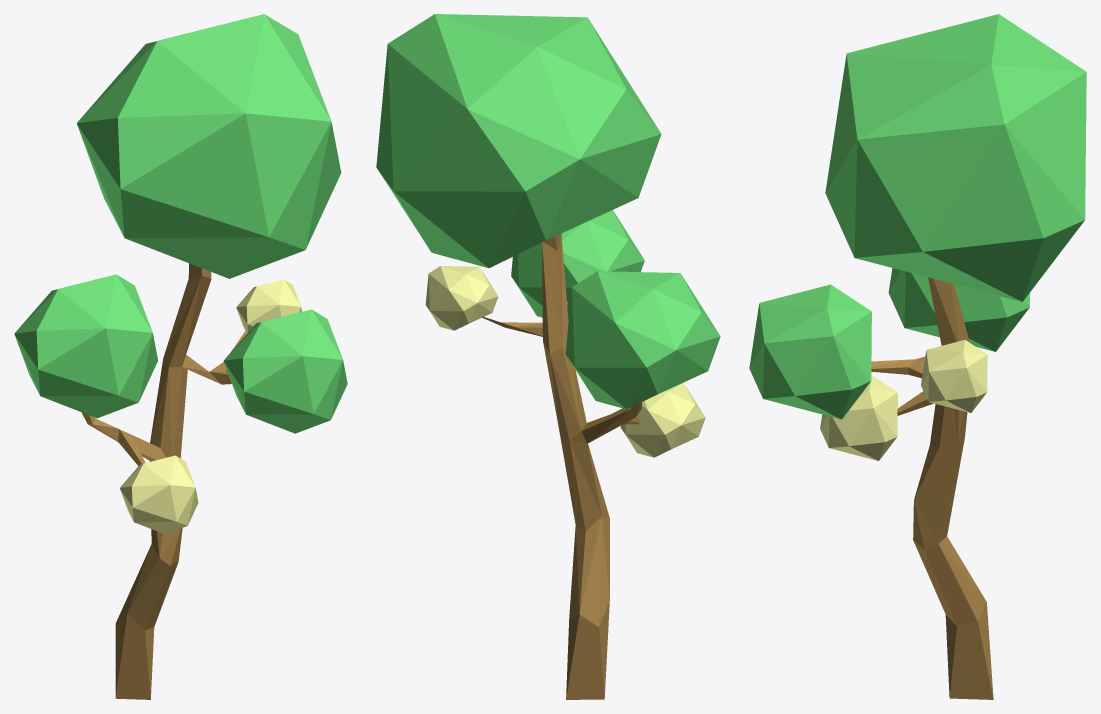
The model's file is Tree.fbx.
The picture shows the model from 3 angles, left to right: view 1: azimuth 30°, elevation 25°; view 2: azimuth 150°, elevation 25°; view 3: azimuth 270°, elevation 25°; orthographic projection. The views are drawn at different scales.
Visible parts, largest first — view 1: Tree leaves, Tree leaves.003, Cube, Tree leaves.001, Tree leaves.004, Tree leaves.002; view 2: Tree leaves, Tree leaves.003, Cube, Tree leaves.001, Tree leaves.004, Tree leaves.002; view 3: Tree leaves, Cube, Tree leaves.001, Tree leaves.003, Tree leaves.004, Tree leaves.002.
Boxes of the visible parts, box(x1,y1,x2,y2) form: Tree leaves: box(76, 14, 341, 278); Tree leaves.003: box(14, 274, 157, 418); Cube: box(81, 263, 246, 699); Tree leaves.001: box(223, 309, 347, 433); Tree leaves.004: box(119, 455, 198, 534); Tree leaves.002: box(236, 279, 301, 333); Tree leaves: box(376, 14, 661, 268); Tree leaves.003: box(565, 271, 720, 409); Cube: box(482, 233, 641, 699); Tree leaves.001: box(511, 210, 644, 320); Tree leaves.004: box(620, 383, 705, 457); Tree leaves.002: box(425, 266, 498, 330); Tree leaves: box(825, 14, 1086, 301); Cube: box(871, 277, 993, 699); Tree leaves.001: box(749, 284, 871, 419); Tree leaves.003: box(888, 268, 1029, 351); Tree leaves.004: box(820, 375, 897, 460); Tree leaves.002: box(921, 340, 987, 412).
Size of the model in its own units: 251 by 513 by 223.
